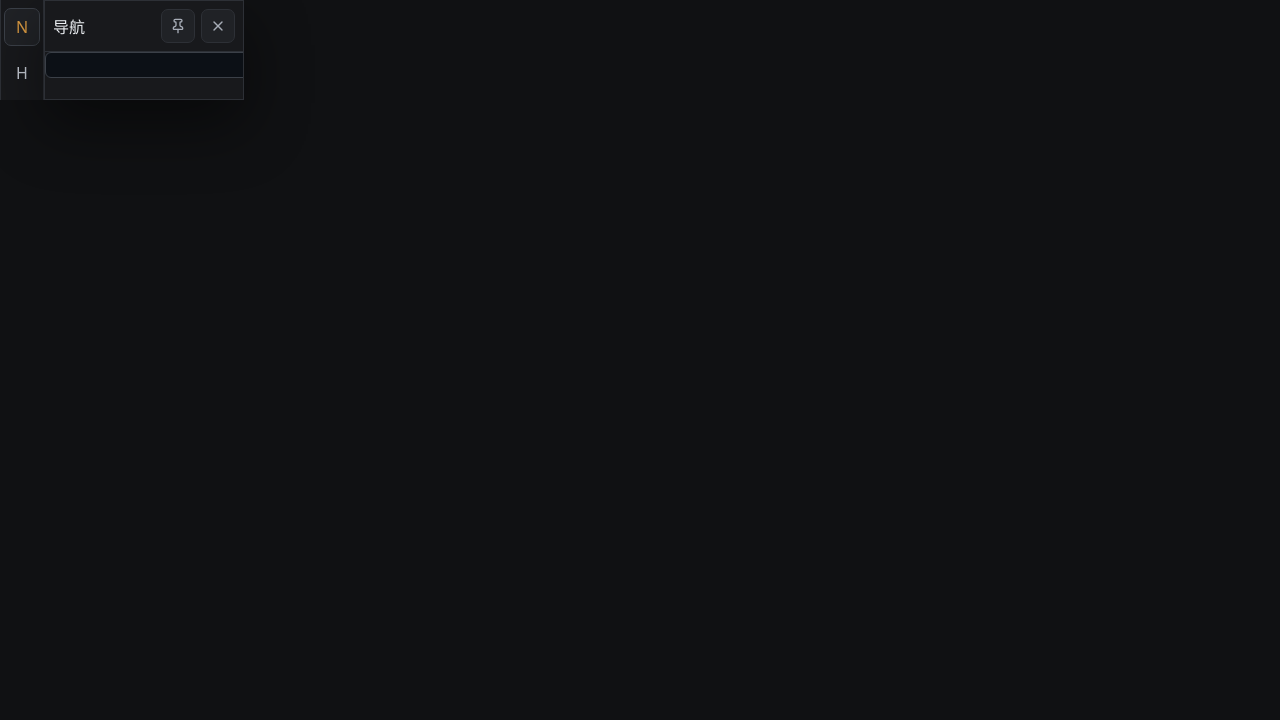
Test: lets an active navigation drag consume Escape before dismissing its peek panel
The width and height of the screenshot is (1280, 720).
Press the mouse on the element showing "N H 导航": (640, 360) [0, 0, 1279, 719]
Press Escape
Expected: the element named "工作面板" is shown, [44, 0, 244, 100]
Press Escape
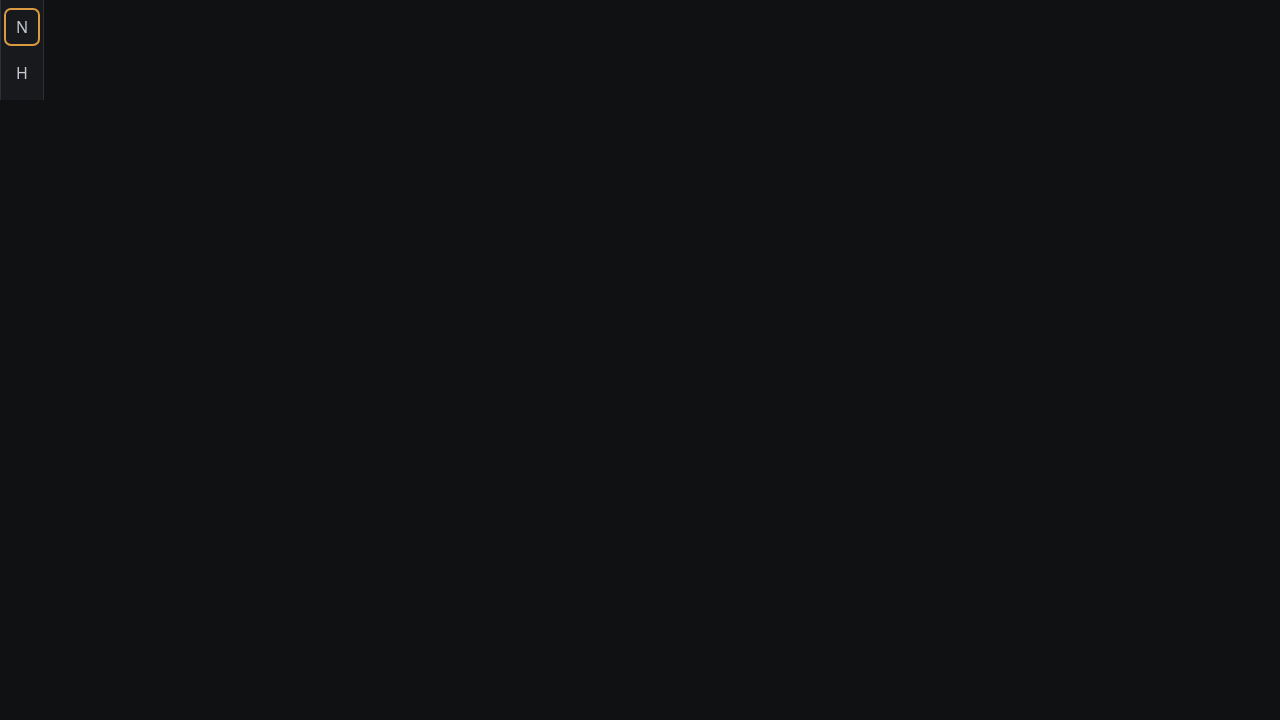
Result: the element "工作面板" is gone
